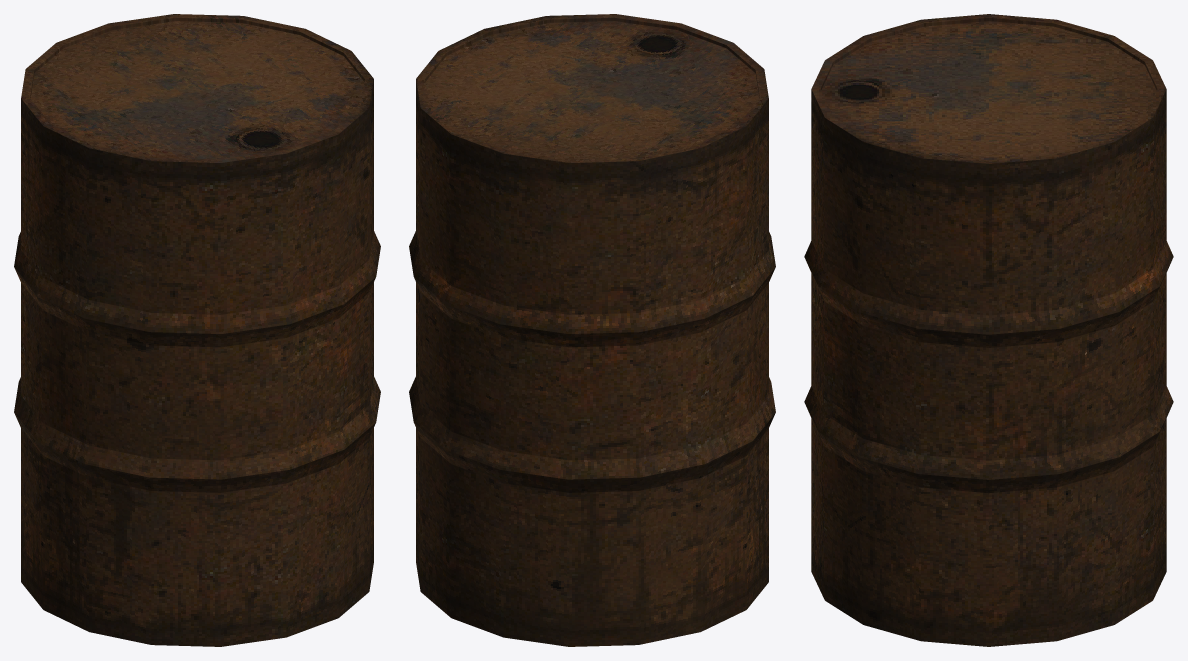
Rendered from metal_barrel_mp_3.glb.
The picture shows the model from 3 angles, left to right: view 1: azimuth 30°, elevation 25°; view 2: azimuth 150°, elevation 25°; view 3: azimuth 270°, elevation 25°; orthographic projection.
Visible parts, largest first — view 1: metal_barrel_mp_3; view 2: metal_barrel_mp_3; view 3: metal_barrel_mp_3.
Part boxes in pixels (x1,y1,x2,y2): metal_barrel_mp_3: [14, 14, 380, 646]; metal_barrel_mp_3: [409, 14, 775, 646]; metal_barrel_mp_3: [804, 14, 1173, 646].
Size of the model in its own units: 0.7488 by 1.08 by 0.7488.
1 material, 1 textured.
